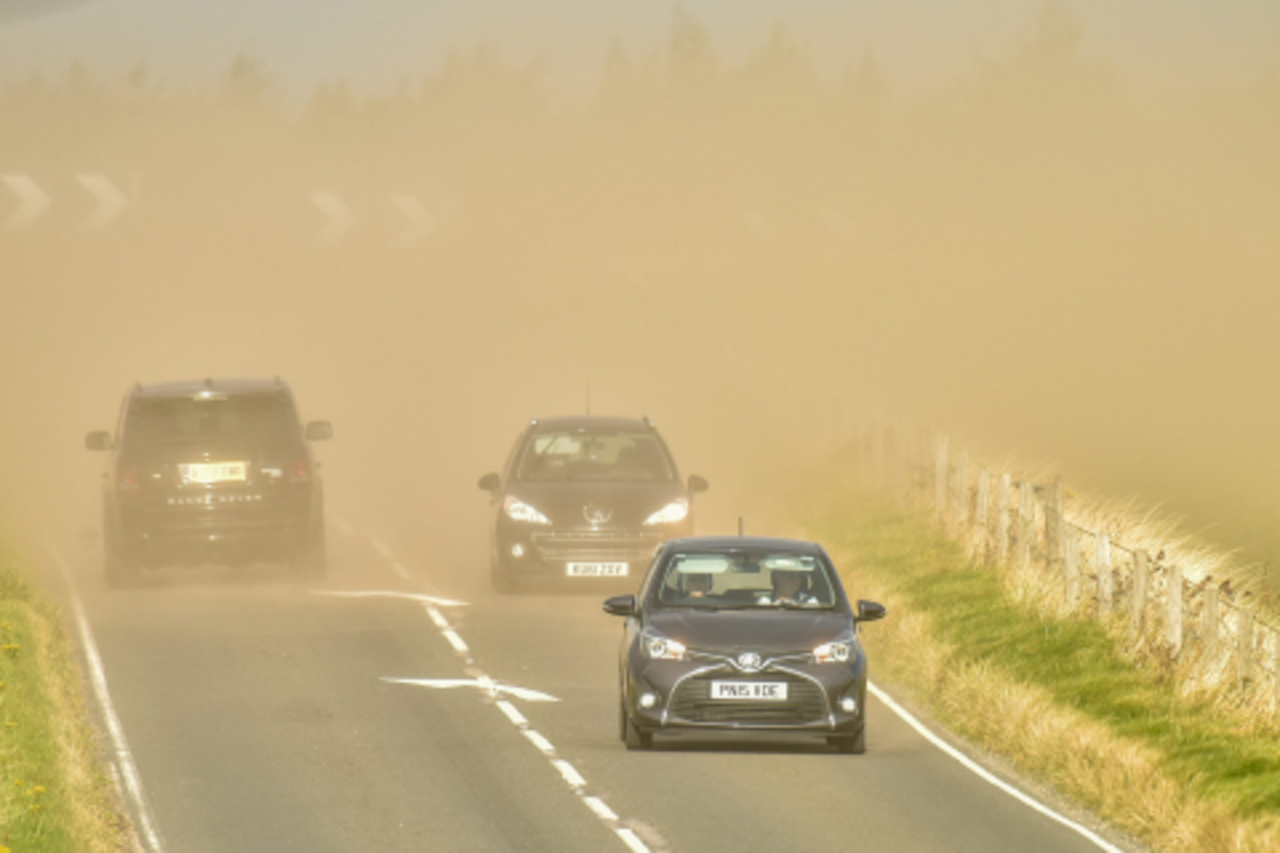car: (606, 529, 874, 755), (103, 376, 329, 587), (480, 414, 701, 593)
